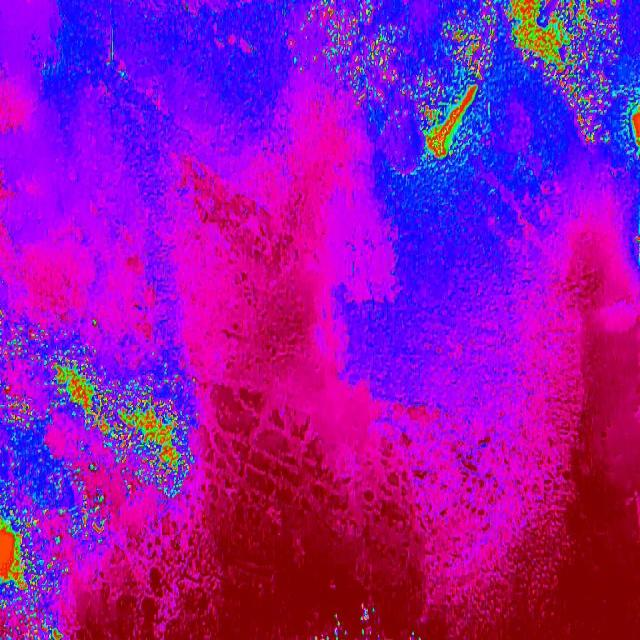fire: (0, 309, 105, 640), (413, 0, 505, 192), (105, 360, 196, 515), (294, 0, 412, 109), (576, 0, 618, 158), (546, 0, 575, 115), (505, 0, 546, 80), (618, 80, 640, 170)
